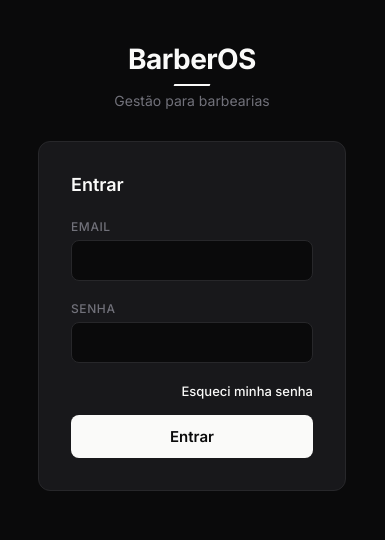
Test: LoginCliente › mostra mensagem de bloqueio com link para recuperação quando a conta está bloqueada
In the field labelled "Email": (192, 260) 71,240 -> 313,280, type "cliente@teste.com"
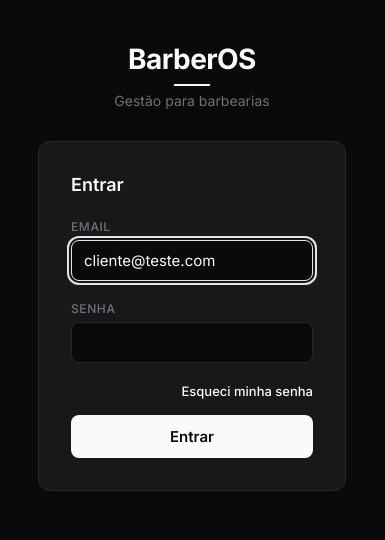
In the password field labelled "Senha": (192, 342) 71,322 -> 313,362, type "senhaErrada"
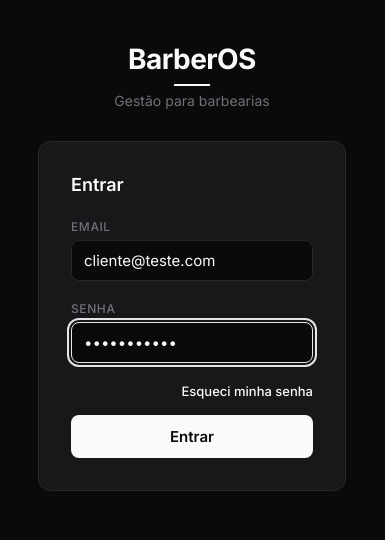
Click the button "Entrar": click(192, 436) 71,414 -> 313,458
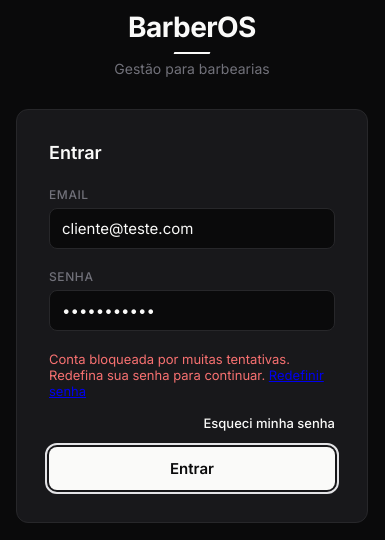
Check: the text "Conta bloqueada" is shown, box 49,350 -> 290,382
